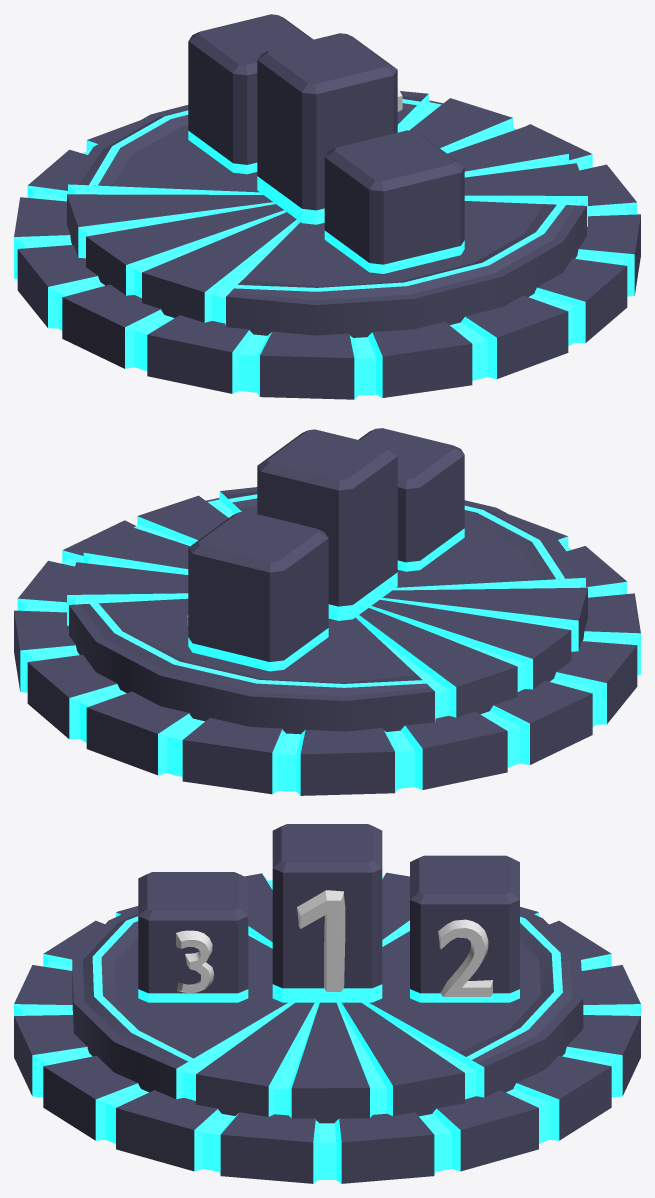
The model's file is Top 3 Piedistal.fbx.
3 renders of one model, top to bottom at view 1: azimuth 30°, elevation 25°; view 2: azimuth 150°, elevation 25°; view 3: azimuth 270°, elevation 25°, orthographic.
Parts seen in each view (by area): view 1: Circle; view 2: Circle; view 3: Circle.
Part boxes in pixels (<box>): Circle: <box>14,14,640,399</box>; Circle: <box>14,428,640,795</box>; Circle: <box>14,824,640,1183</box>.
Bounding box in the file's own units: 805 × 294 × 805.
